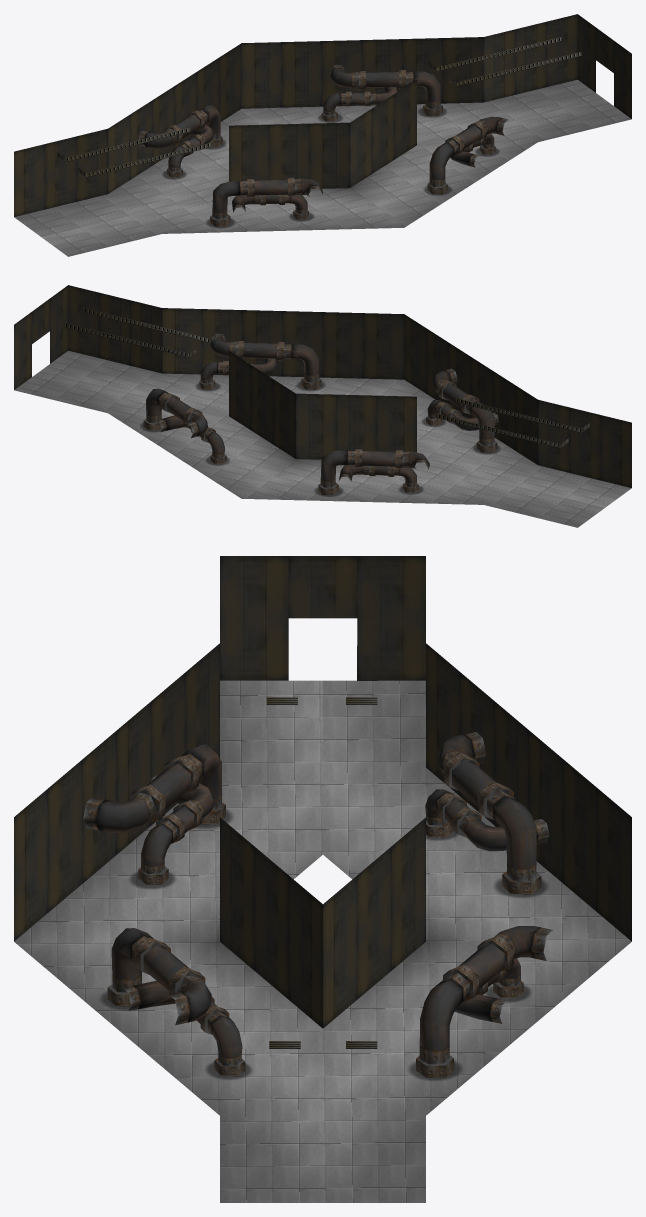
Rendered from room_15.glb.
The picture shows the model from 3 angles, top to bottom: view 1: azimuth 30°, elevation 25°; view 2: azimuth 150°, elevation 25°; view 3: azimuth 270°, elevation 25°; orthographic projection. The views are drawn at different scales.
Parts seen in each view (by area): view 1: floor, W14, W2, W10, W13, W16, W1, W15, LargePipe1Elbow2 (×2), LargePipe2Elbow2 (×2), LargePipe1Elbow1 (×2), LargePipe2Elbow1 (×2) (+7 smaller); view 2: floor, W9, W3, W8, W12, W6, W4, W15, LargePipe2Elbow2 (×2), LargePipe1Elbow2 (×2), LargePipe1Elbow1 (×2), SmallPipe1Elbow2 (×2) (+7 smaller); view 3: floor, W8, W10, W11, W4, W1, LargePipe1Elbow2 (×2), wall, wall31, LargePipe2Elbow2 (×2), LargePipe2Elbow1 (×2), LargePipe1Elbow1 (×2) (+6 smaller).
Boxes of the visible parts, x1,y1,x2,y2 form: floor: [14, 79, 631, 256]; W14: [241, 37, 483, 108]; W2: [229, 122, 349, 188]; W10: [108, 43, 241, 193]; W13: [14, 128, 107, 216]; W16: [483, 14, 577, 102]; W1: [350, 80, 416, 187]; W15: [577, 14, 631, 118]; LargePipe1Elbow2 (×2): [406, 71, 458, 186]; LargePipe2Elbow2 (×2): [198, 105, 247, 219]; LargePipe1Elbow1 (×2): [330, 65, 508, 135]; LargePipe2Elbow1 (×2): [138, 128, 323, 196]; floor: [14, 350, 631, 527]; W9: [162, 308, 404, 379]; W3: [296, 393, 416, 459]; W8: [404, 314, 537, 464]; W12: [538, 399, 631, 487]; W6: [68, 285, 162, 373]; W4: [229, 351, 295, 458]; W15: [14, 285, 68, 389]; LargePipe2Elbow2 (×2): [320, 399, 494, 487]; LargePipe1Elbow2 (×2): [146, 344, 319, 422]; LargePipe1Elbow1 (×2): [187, 333, 236, 438]; SmallPipe1Elbow2 (×2): [200, 362, 224, 458]; floor: [14, 680, 631, 1202]; W8: [14, 643, 219, 941]; W10: [426, 643, 631, 941]; W11: [220, 556, 425, 618]; W4: [323, 817, 425, 1028]; W1: [220, 817, 322, 1028]; LargePipe1Elbow2 (×2): [111, 928, 469, 1063]; wall: [357, 618, 425, 680]; wall31: [220, 618, 288, 680]; LargePipe2Elbow2 (×2): [181, 744, 536, 880]; LargePipe2Elbow1 (×2): [83, 732, 485, 832]; LargePipe1Elbow1 (×2): [168, 926, 552, 1025].
Size of the model in its own units: 270 by 30.68 by 135.
9 materials, 9 textured.
